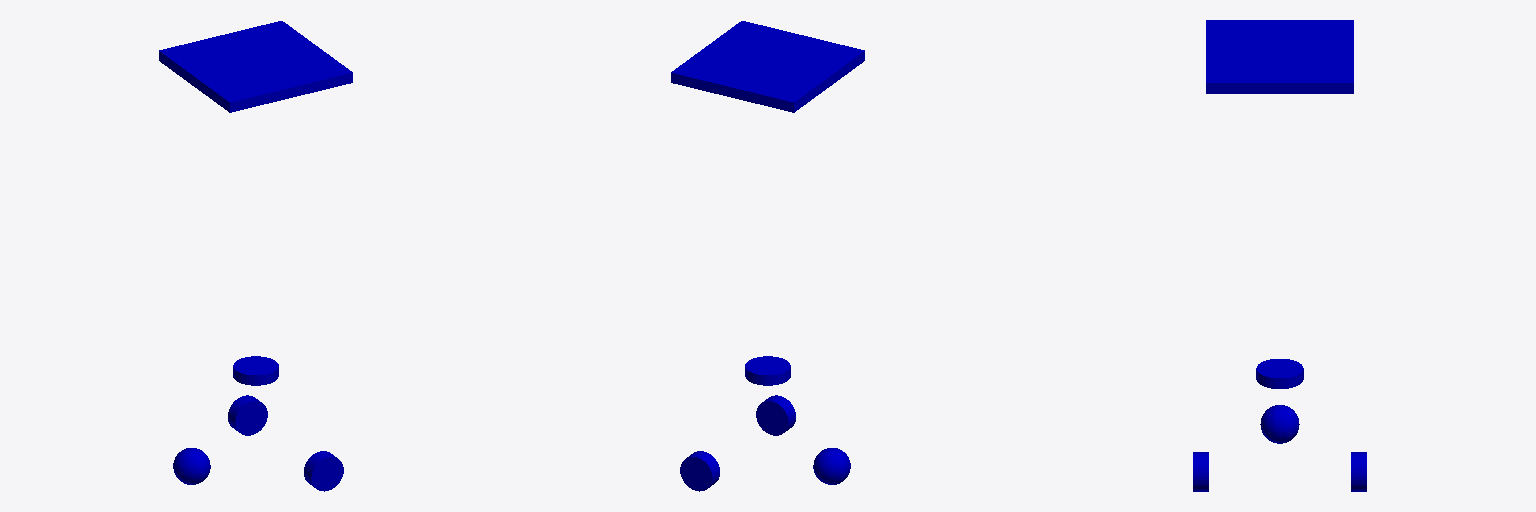
URDF robot description (feetech_tray):
<?xml version="1.0" ?>
<!-- =================================================================================== -->
<!-- |    This document was autogenerated by xacro from /mnt/c/Users/User/Downloads/Candle_TheRobot-main/colcon_ws/src/urdf_tutorial/urdf/feetech_tray.urdf.xacro | -->
<!-- |    EDITING THIS FILE BY HAND IS NOT RECOMMENDED                                 | -->
<!-- =================================================================================== -->
<robot name="feetech_tray">
  <material name="blue">
    <color rgba="0 0 0.8 1"/>
  </material>
  <link name="base_footprint"/>
  <joint name="base_joint" type="fixed">
    <parent link="base_footprint"/>
    <child link="base_link"/>
    <origin rpy="0 0 0" xyz="0 0 0.05"/>
  </joint>
  <!-- WHEELS -->
  <link name="left_wheel">
    <inertial>
      <mass value="0.2"/>
      <inertia ixx="6.66e-05" ixy="0.0" ixz="0.0" iyy="6.66e-05" iyz="0.0" izz="0.00010890000000000002"/>
    </inertial>
    <visual>
      <origin rpy="1.570796 0 0" xyz="0 0 0"/>
      <geometry>
        <cylinder length="0.027" radius="0.033"/>
      </geometry>
      <material name="blue"/>
    </visual>
    <collision>
      <origin rpy="1.570796 0 0" xyz="0 0 0"/>
      <geometry>
        <cylinder length="0.027" radius="0.033"/>
      </geometry>
    </collision>
  </link>
  <joint name="left_wheel_joint" type="continuous">
    <axis rpy="0 0 0" xyz="0 1 0"/>
    <parent link="base_link"/>
    <child link="left_wheel"/>
    <origin xyz="0.0605 0.1335 -0.04458"/>
  </joint>
  <link name="right_wheel">
    <inertial>
      <mass value="0.2"/>
      <inertia ixx="6.66e-05" ixy="0.0" ixz="0.0" iyy="6.66e-05" iyz="0.0" izz="0.00010890000000000002"/>
    </inertial>
    <visual>
      <origin rpy="1.570796 0 0" xyz="0 0 0"/>
      <geometry>
        <cylinder length="0.027" radius="0.033"/>
      </geometry>
      <material name="blue"/>
    </visual>
    <collision>
      <origin rpy="1.570796 0 0" xyz="0 0 0"/>
      <geometry>
        <cylinder length="0.027" radius="0.033"/>
      </geometry>
    </collision>
  </link>
  <joint name="right_wheel_joint" type="continuous">
    <axis rpy="0 0 0" xyz="0 1 0"/>
    <parent link="base_link"/>
    <child link="right_wheel"/>
    <origin xyz="0.0605 -0.1335 -0.04458"/>
  </joint>
  <link name="rear_wheel">
    <inertial>
      <mass value="0.1"/>
      <inertia ixx="4.356000000000002e-05" ixy="0.0" ixz="0.0" iyy="4.356000000000002e-05" iyz="0.0" izz="4.356000000000002e-05"/>
    </inertial>
    <visual>
      <origin rpy="1.570796 0 0" xyz="0 0 0"/>
      <geometry>
        <sphere radius="0.033"/>
      </geometry>
      <material name="blue"/>
    </visual>
    <collision>
      <origin rpy="1.570796 0 0" xyz="0 0 0"/>
      <geometry>
        <sphere radius="0.033"/>
      </geometry>
    </collision>
  </link>
  <joint name="rear_wheel_joint" type="fixed">
    <parent link="base_link"/>
    <child link="rear_wheel"/>
    <origin xyz="-0.13 0 -0.04458"/>
  </joint>
  <!-- GAZEBO PHYSICS -->
  <gazebo reference="rear_wheel">
    <mu1>0.0</mu1>
    <mu2>0.0</mu2>
  </gazebo>
  <gazebo>
    <plugin filename="libgazebo_ros_diff_drive.so" name="diff_drive">
      <ros>
        <remapping>cmd_vel:=cmd_vel</remapping>
        <remapping>odom:=odom</remapping>
      </ros>
      <update_rate>50</update_rate>
      <left_joint>left_wheel_joint</left_joint>
      <right_joint>right_wheel_joint</right_joint>
      <wheel_separation>0.267</wheel_separation>
      <wheel_diameter>0.066</wheel_diameter>
      <max_wheel_acceleration>1.0</max_wheel_acceleration>
      <max_wheel_torque>20</max_wheel_torque>
      <command_topic>cmd_vel</command_topic>
      <publish_odom>true</publish_odom>
      <publish_odom_tf>true</publish_odom_tf>
      <publish_wheel_tf>true</publish_wheel_tf>
      <odometry_topic>odom</odometry_topic>
      <odometry_frame>odom</odometry_frame>
      <robot_base_frame>base_footprint</robot_base_frame>
    </plugin>
  </gazebo>
  <!-- BASE LINK -->
  <link name="base_link">
    <inertial>
      <mass value="5.0"/>
      <inertia ixx="0.04166666666666667" ixy="0.0" ixz="0.0" iyy="0.02083333333333334" iyz="0.0" izz="0.05416666666666667"/>
    </inertial>
    <visual>
      <origin rpy="0 0 3.14" xyz="0 0 0"/>
      <geometry>
        <mesh filename="package://urdf_tutorial/meshes/base_link.stl"/>
      </geometry>
    </visual>
    <collision>
      <geometry>
        <mesh filename="package://urdf_tutorial/meshes/base_link.stl"/>
      </geometry>
    </collision>
  </link>
  <!-- LIDAR -->
  <link name="laser">
    <visual>
      <origin xyz="0 0 0"/>
      <geometry>
        <cylinder length="0.02" radius="0.04"/>
      </geometry>
      <material name="blue"/>
    </visual>
  </link>
  <joint name="laser_joint" type="fixed">
    <parent link="base_link"/>
    <child link="laser"/>
    <origin rpy="0.0 0.0 0" xyz="0 0 0.11"/>
  </joint>
  <gazebo reference="laser">
    <sensor name="rplidar_sensor" type="ray">
      <pose>0 0 0 0 0 0</pose>
      <visualize>false</visualize>
      <update_rate>10</update_rate>
      <ray>
        <scan>
          <horizontal>
            <samples>360</samples>
            <resolution>1</resolution>
            <min_angle>-3.14159</min_angle>
            <max_angle>3.14159</max_angle>
          </horizontal>
        </scan>
        <range>
          <min>0.15</min>
          <max>10.0</max>
          <resolution>0.01</resolution>
        </range>
        <noise>
          <type>gaussian</type>
          <mean>0.0</mean>
          <stddev>0.01</stddev>
        </noise>
      </ray>
      <plugin filename="libgazebo_ros_ray_sensor.so" name="gazebo_ros_ray_sensor">
        <ros>
          <remapping>~/out:=scan</remapping>
        </ros>
        <output_type>sensor_msgs/LaserScan</output_type>
        <frame_name>laser</frame_name>
      </plugin>
    </sensor>
  </gazebo>
  <!-- TRAY LINK (Replacing arm) -->
  <link name="tray_link">
    <inertial>
      <mass value="0.5"/>
      <inertia ixx="0.002620833333333333" ixy="0.0" ixz="0.0" iyy="0.002620833333333333" iyz="0.0" izz="0.005208333333333333"/>
    </inertial>
    <visual>
      <geometry>
        <box size="0.25 0.25 0.02"/>
      </geometry>
      <material name="blue"/>
    </visual>
    <collision>
      <geometry>
        <box size="0.25 0.25 0.02"/>
      </geometry>
    </collision>
  </link>
  <joint name="tray_joint" type="fixed">
    <parent link="base_link"/>
    <child link="tray_link"/>
    <origin rpy="0 0 0" xyz="0 0 0.70"/>
  </joint>
  <!-- Because there are no more position/velocity controllable joints, 
       we do NOT include feetech.gazebo.xacro for gazebo_ros2_control. 
       The diff_drive plugin manages the wheels, and the rest is structural. -->
</robot>

--- Facts derived from the render (not from the file) ---
3 views of the same robot in one strip: view 1: azimuth 30°, elevation 25°; view 2: azimuth 150°, elevation 25°; view 3: azimuth 270°, elevation 25° (orthographic).
Robot: feetech_tray — 7 links, 6 joints (2 continuous, 4 fixed); root link base_footprint; default pose: all joints at 0.
Links seen in each view (by area): view 1: tray_link, left_wheel, right_wheel, laser, rear_wheel; view 2: tray_link, right_wheel, left_wheel, laser, rear_wheel; view 3: tray_link, laser, rear_wheel, left_wheel, right_wheel.
Link boxes in pixels (x1,y1,x2,y2): tray_link: (159, 21, 352, 112); left_wheel: (228, 395, 267, 435); right_wheel: (304, 451, 343, 491); laser: (233, 356, 278, 385); rear_wheel: (173, 448, 210, 484); tray_link: (671, 21, 864, 112); right_wheel: (756, 395, 795, 435); left_wheel: (680, 451, 719, 491); laser: (745, 356, 790, 385); rear_wheel: (813, 448, 850, 484); tray_link: (1206, 20, 1353, 93); laser: (1256, 359, 1303, 388); rear_wheel: (1260, 405, 1299, 443); left_wheel: (1351, 452, 1366, 491); right_wheel: (1193, 452, 1208, 491).
Size in the robot's own frame: 0.288 by 0.294 by 0.7876 metres.
Meshes: 1 distinct files referenced, 0 mesh visuals loaded (none loaded); not drawn: 1 (file found but could not be loaded).
